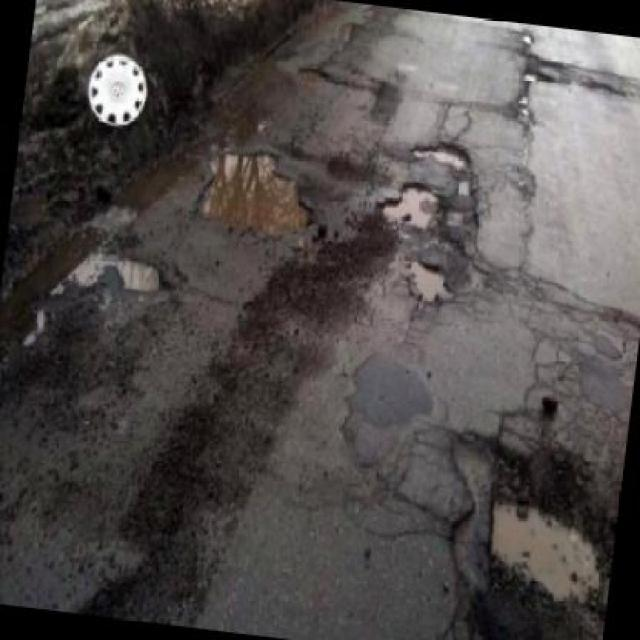pothole: (472, 429, 623, 617), (196, 140, 322, 242), (379, 171, 441, 231), (405, 251, 458, 304), (112, 246, 168, 296), (410, 133, 472, 173)
